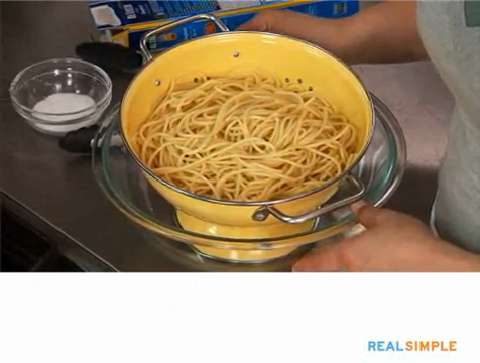plain spaghetti: (140, 65, 363, 201)
